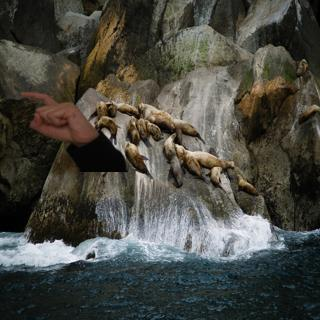WHY: (16, 85, 97, 142)
